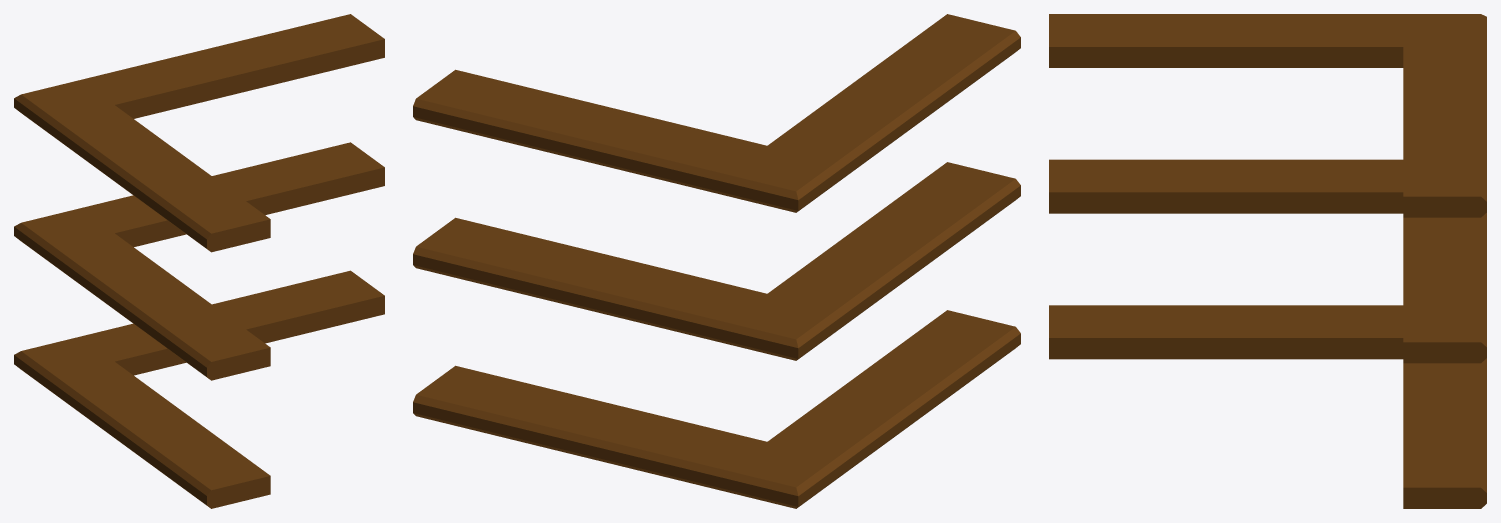
File: SM_Shelves_Corner_Outer.fbx
3 views of the same model, side by side, from view 1: azimuth 30°, elevation 25°; view 2: azimuth 150°, elevation 25°; view 3: azimuth 270°, elevation 25° (orthographic). The views are drawn at different scales.
Visible parts, largest first — view 1: SM_Shelves_Corner_Outer; view 2: SM_Shelves_Corner_Outer; view 3: SM_Shelves_Corner_Outer.
Part boxes in pixels (x1,y1,x2,y2): SM_Shelves_Corner_Outer: (14,14,384,508); SM_Shelves_Corner_Outer: (413,14,1020,508); SM_Shelves_Corner_Outer: (1049,14,1486,508).
Size of the model in its own units: 124 by 97.31 by 124.
